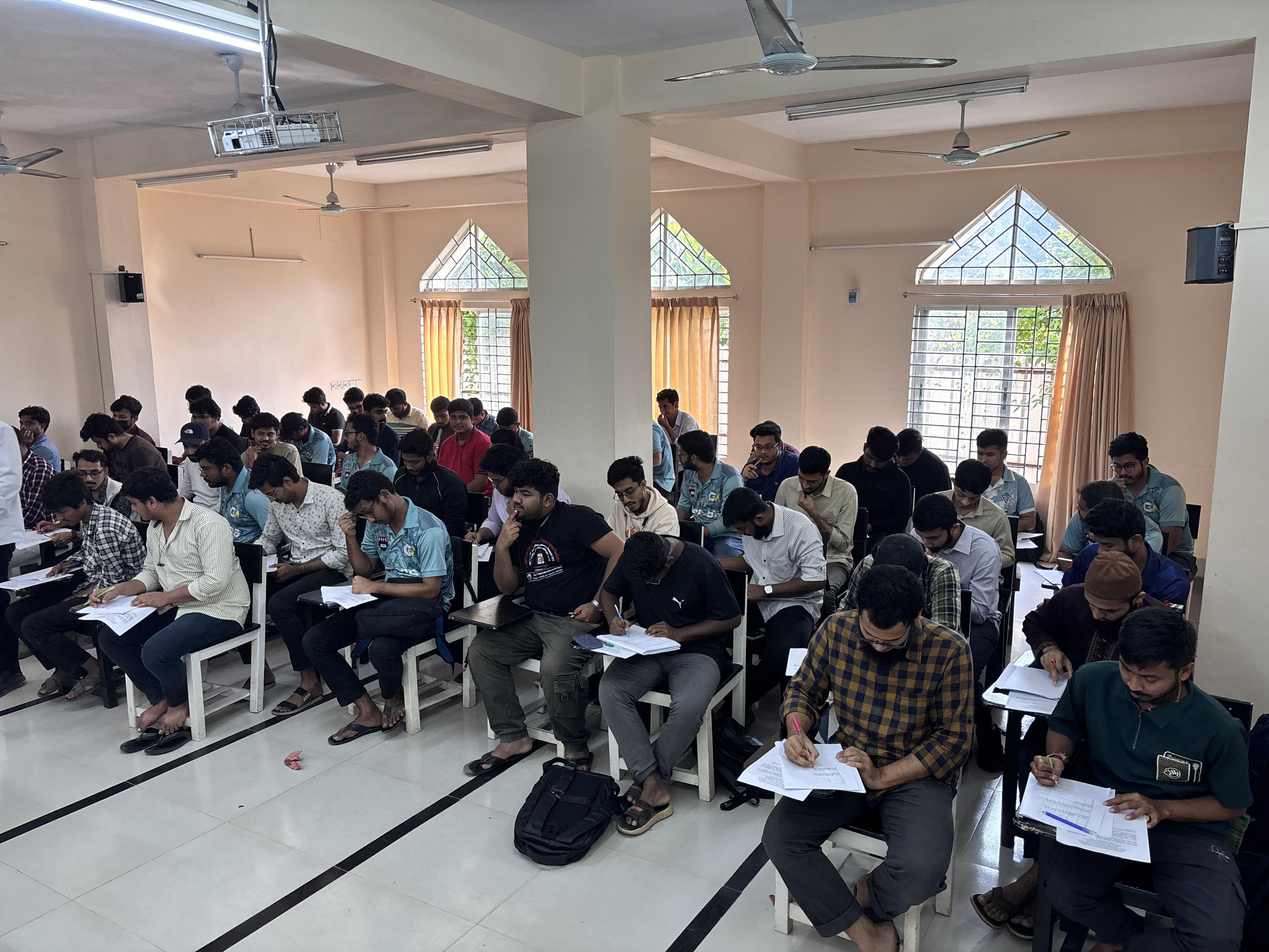copying: (175, 423, 209, 470), (71, 446, 107, 489), (110, 391, 149, 430), (364, 389, 395, 427)
no_cheating: (1056, 602, 1252, 875), (798, 561, 930, 811), (484, 456, 613, 711), (322, 467, 434, 655), (246, 451, 335, 593), (599, 532, 692, 666), (24, 467, 109, 602), (712, 486, 799, 594), (1057, 552, 1150, 636), (1100, 423, 1170, 495), (911, 492, 979, 557), (1081, 501, 1151, 563), (201, 443, 254, 524), (783, 446, 835, 526), (605, 448, 657, 525), (851, 426, 900, 494), (444, 395, 481, 481), (478, 437, 524, 503), (81, 413, 145, 454), (741, 416, 787, 469), (951, 456, 996, 508), (279, 410, 326, 457), (397, 429, 436, 484), (894, 421, 932, 476), (968, 428, 1022, 466), (12, 402, 49, 442), (303, 384, 336, 421), (386, 384, 416, 422), (179, 400, 219, 426), (430, 396, 456, 432), (342, 384, 365, 416), (231, 394, 257, 422)
side_talking: (672, 430, 729, 497), (337, 411, 379, 472), (656, 389, 693, 432), (249, 411, 289, 448)
